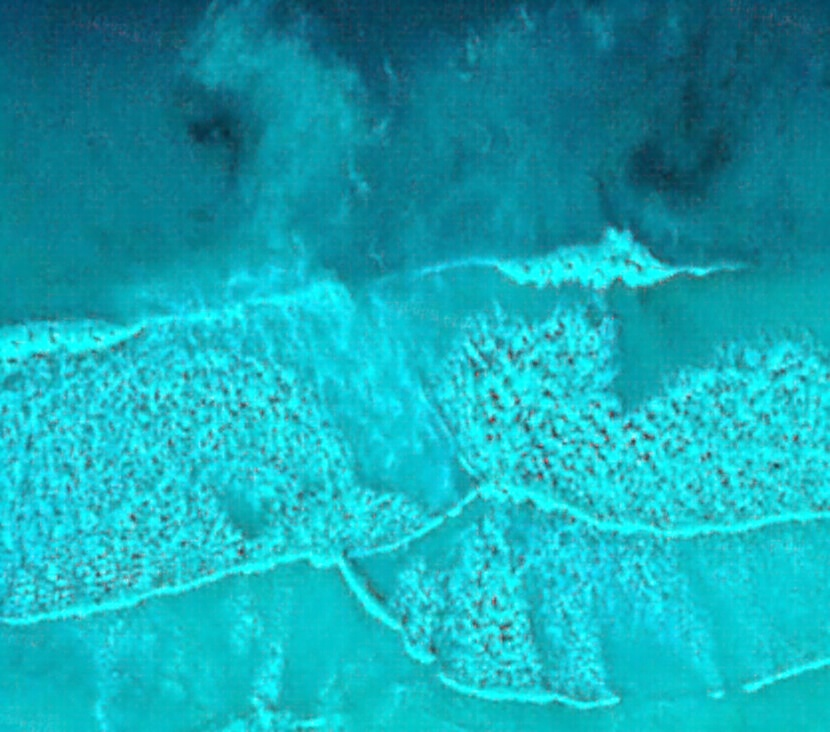rip_current: (175, 63, 508, 570)
